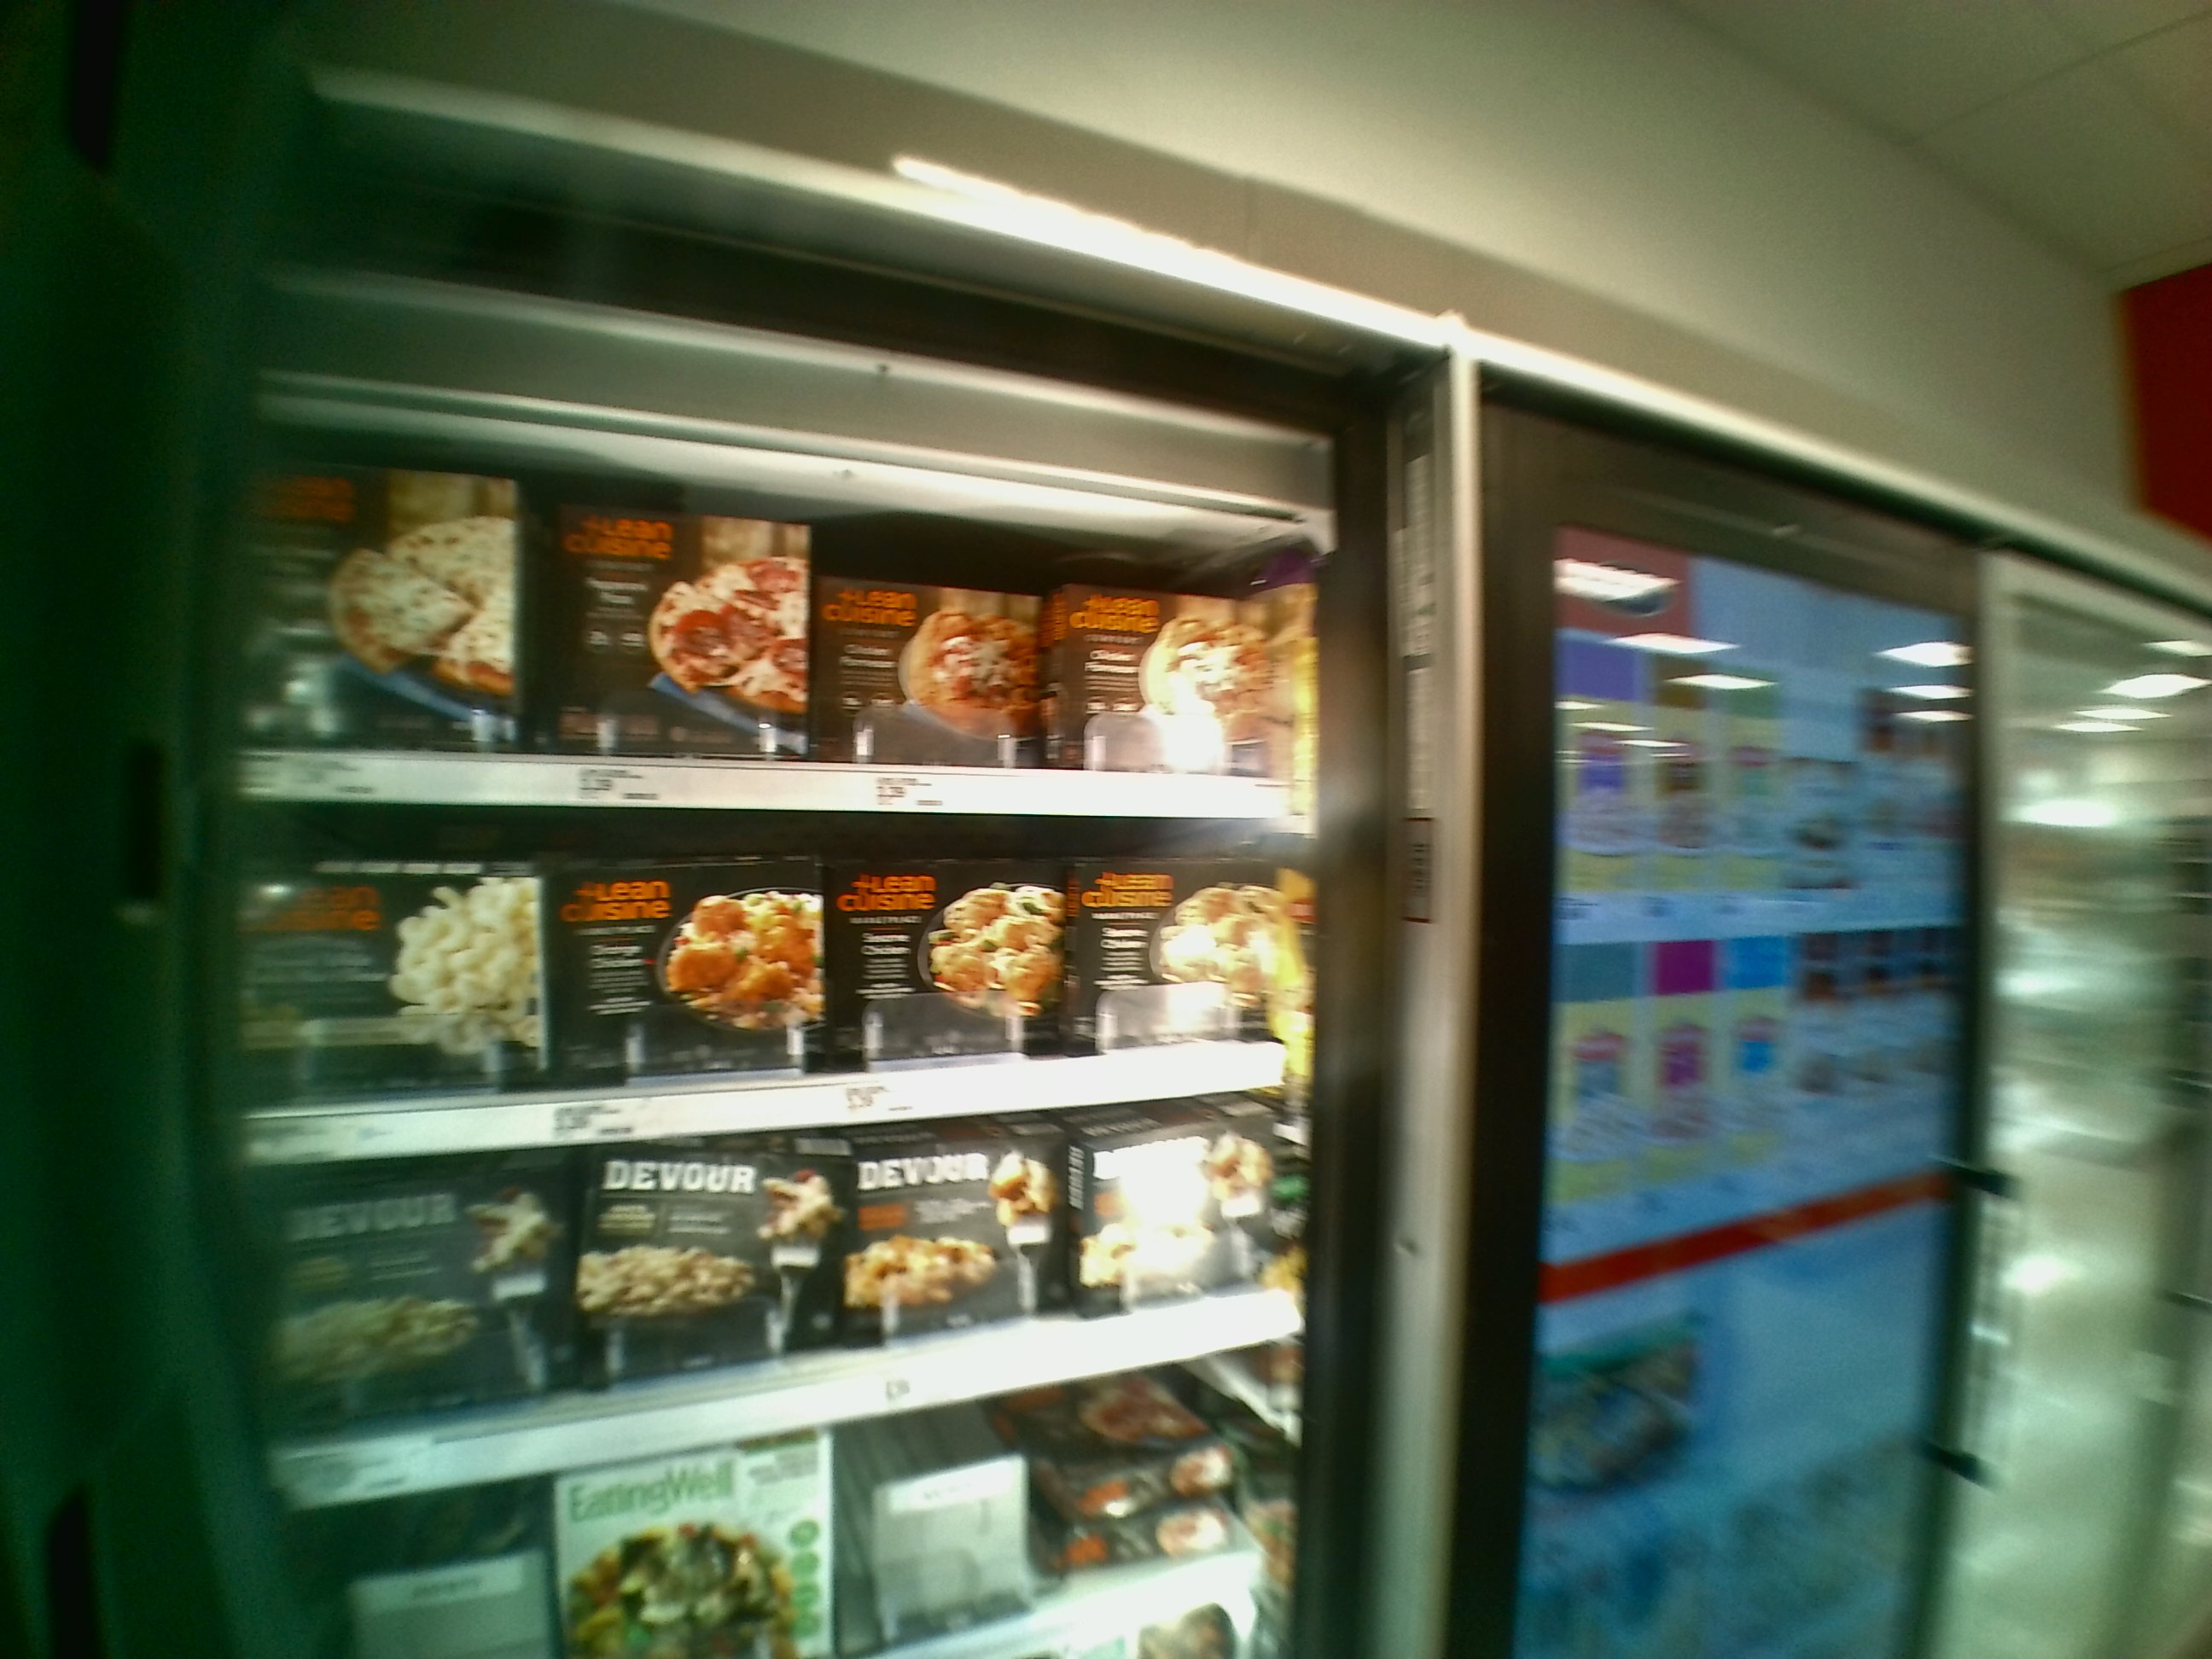shelf: (228, 369, 1299, 817), (235, 793, 1305, 1173)
